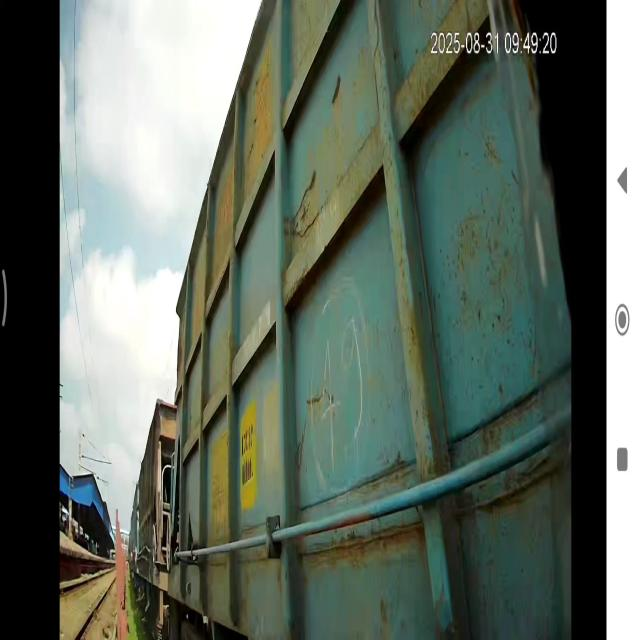coach: (172, 0, 565, 640)
